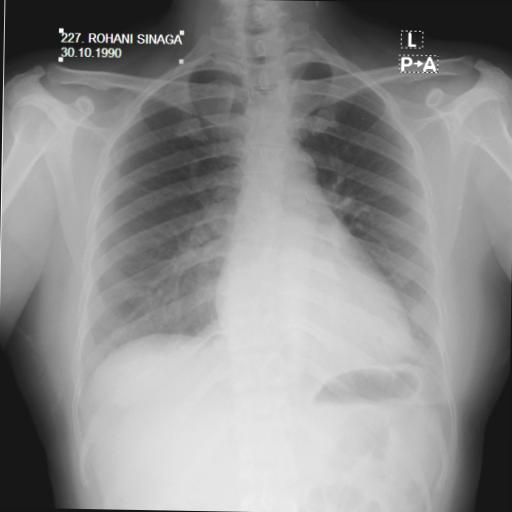kardiomegali: (72, 42, 458, 412)
